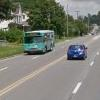Car: (66, 41, 86, 62)
